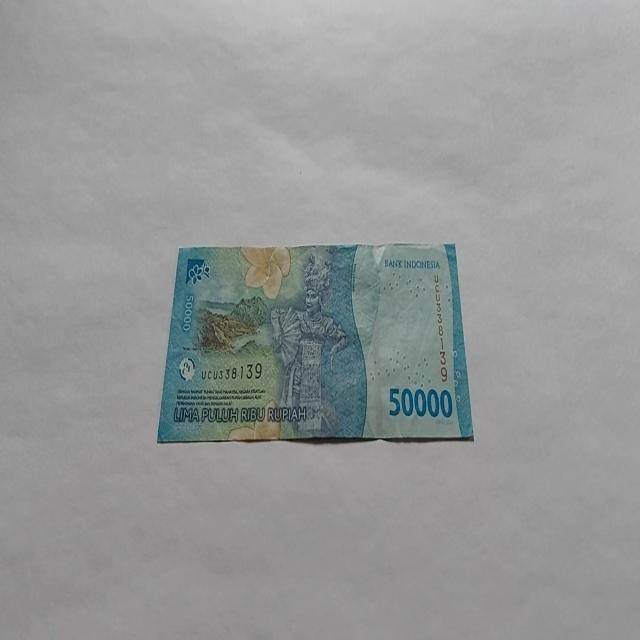lima puluh ribu rupiah: (156, 240, 474, 444)
